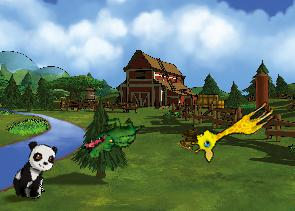crocodile: (79, 103, 146, 171)
giraffe: (187, 90, 278, 166)
panda: (8, 137, 60, 204)
